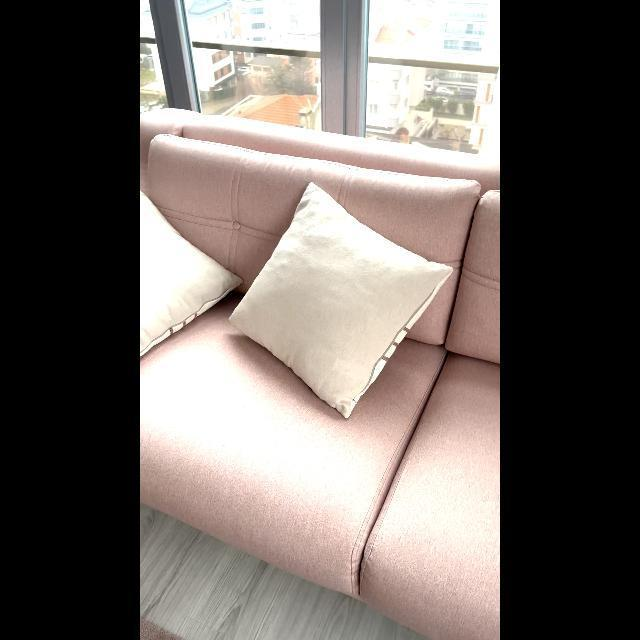throw pillow: (218, 172, 466, 424), (140, 175, 256, 368)
